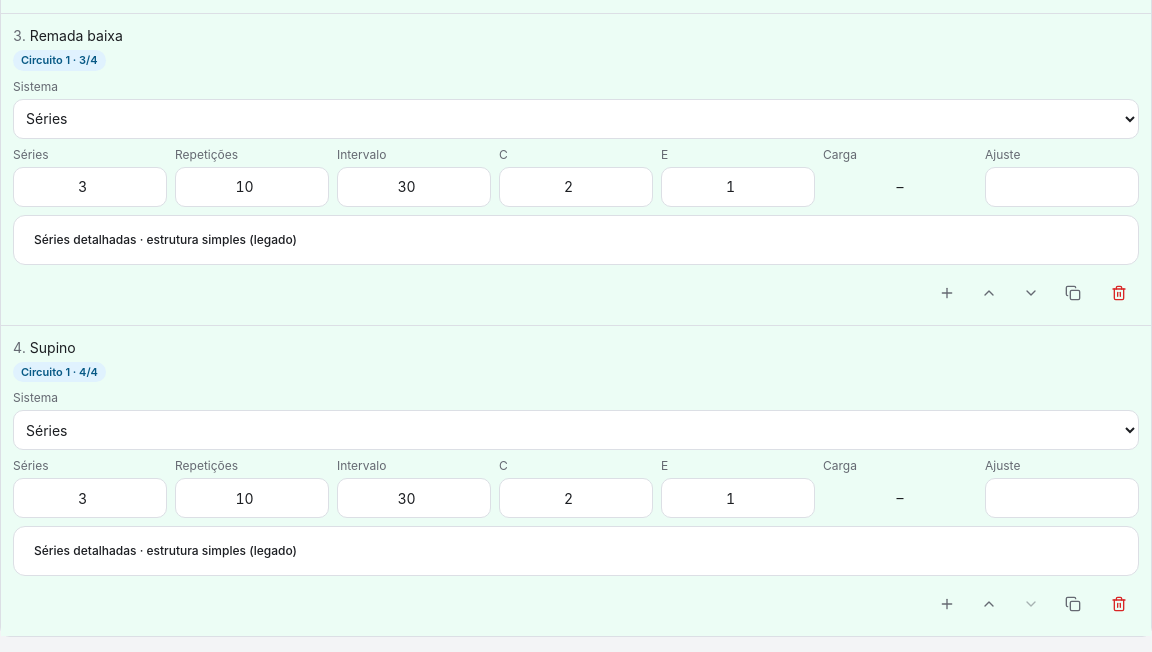
Test: WorkoutBuilderResistance › permite dividir e recompor circuitos em blocos explícitos
(page scrolled)
Click the button named "Iniciar novo bloco antes de Remada baixa". click: {"x": 947, "y": 292}
box: [927, 272, 967, 312]
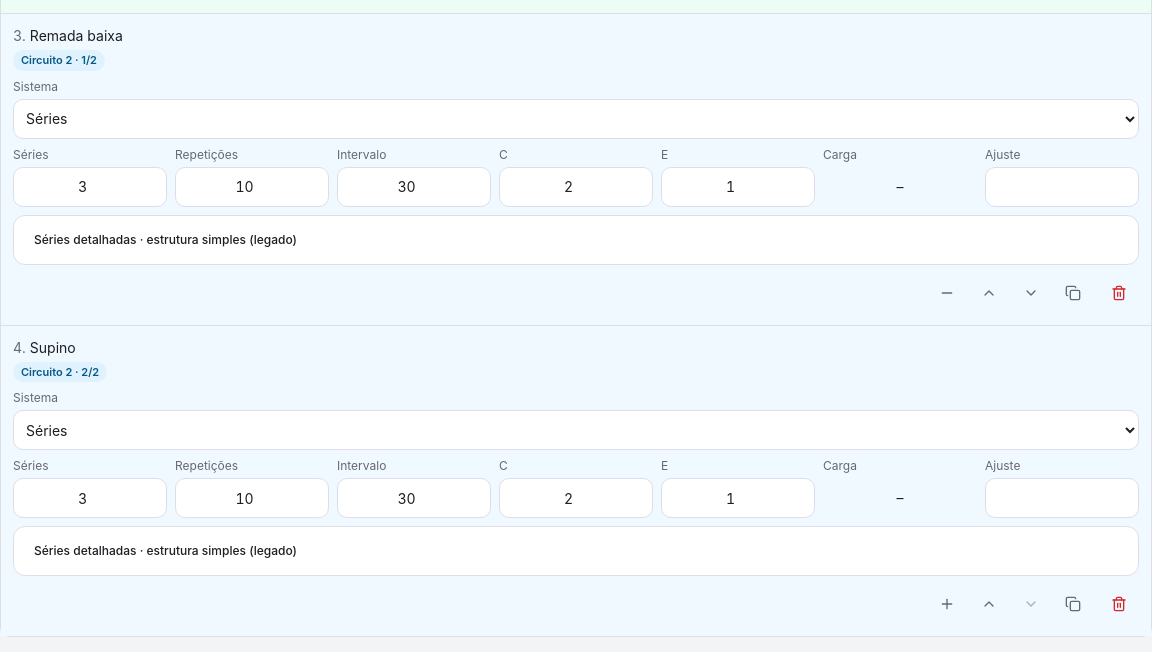
Check: the text "Circuito 2 · 1/2" is shown, box [13, 50, 105, 70]
Click the button named "Unir Remada baixa ao bloco anterior". click: {"x": 947, "y": 292}
box: [927, 272, 967, 312]
(page scrolled)
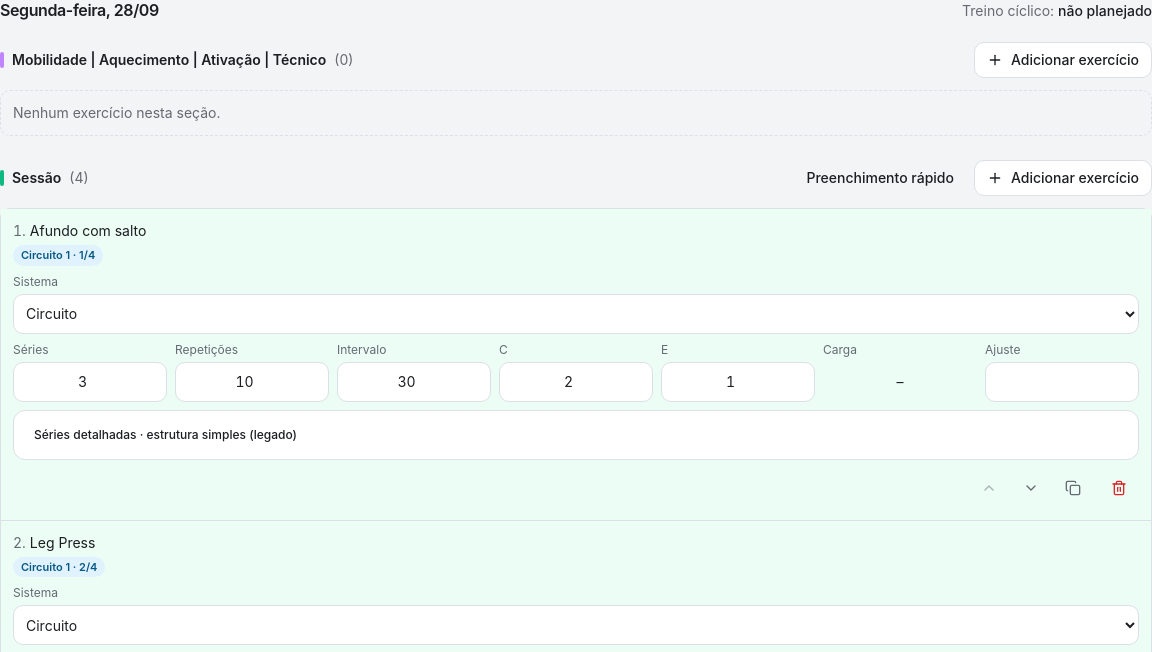
Check: the text "Circuito 1 · 1/4" is shown, box [13, 245, 103, 266]
